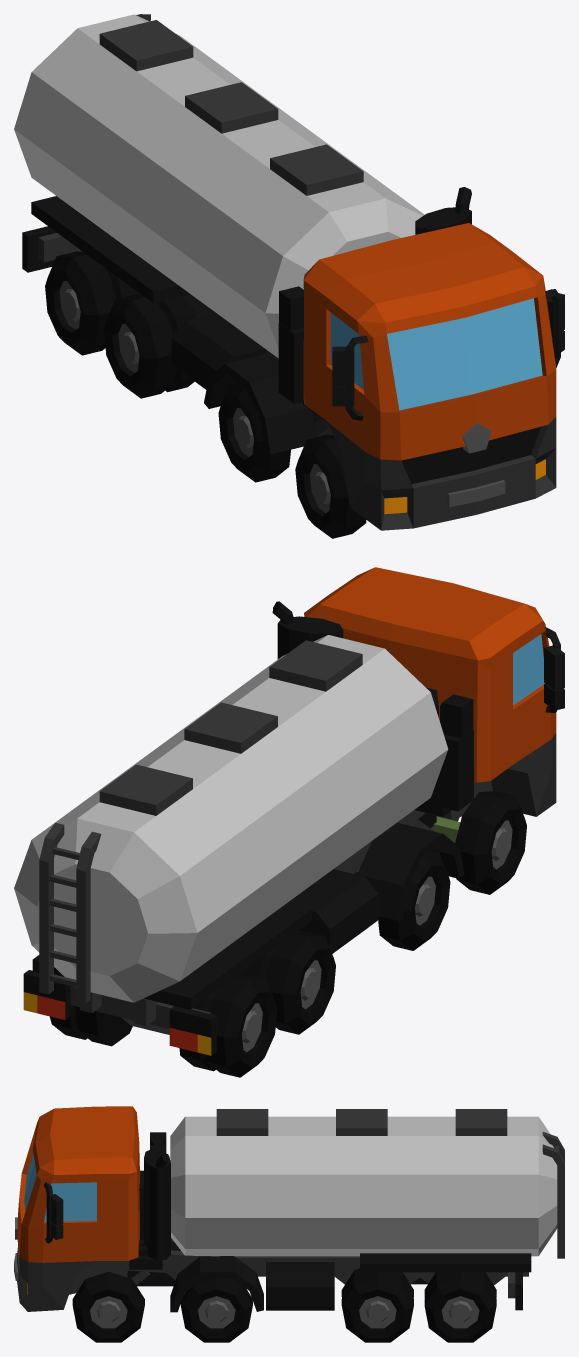
Rendered from car-4.fbx.
3 views of the same model, one above another, from view 1: azimuth 30°, elevation 25°; view 2: azimuth 150°, elevation 25°; view 3: azimuth 270°, elevation 25° (orthographic). The views are drawn at different scales.
Parts seen in each view (by area): view 1: Truck 2, Truck 2 Cargo, WheelT2-7, WheelT2-8, WheelT2-5, WheelT2-6; view 2: Truck 2 Cargo, Truck 2, WheelT2-8, WheelT2-7, WheelT2-5, WheelT2-6, WheelT2-4; view 3: Truck 2 Cargo, Truck 2, WheelT2-3, WheelT2-4, WheelT2-1, WheelT2-2.
Part boxes in pixels (box(x1,y1,x2,y2)): Truck 2: box(22, 187, 564, 530); Truck 2 Cargo: box(14, 14, 424, 358); WheelT2-7: box(104, 294, 196, 398); WheelT2-8: box(45, 251, 140, 355); WheelT2-5: box(295, 434, 366, 538); WheelT2-6: box(218, 381, 290, 482); Truck 2 Cargo: box(14, 635, 448, 1003); Truck 2: box(23, 567, 564, 1055); WheelT2-8: box(179, 973, 277, 1077); WheelT2-7: box(240, 931, 335, 1034); WheelT2-5: box(455, 791, 526, 894); WheelT2-6: box(378, 850, 450, 950); WheelT2-4: box(49, 1005, 132, 1046); Truck 2 Cargo: box(170, 1109, 564, 1258); Truck 2: box(14, 1106, 531, 1312); WheelT2-3: box(341, 1268, 413, 1342); WheelT2-4: box(424, 1272, 496, 1342); WheelT2-1: box(72, 1271, 144, 1342); WheelT2-2: box(180, 1278, 252, 1342).
Bounding box in the file's own units: 539 × 612 × 1573.
